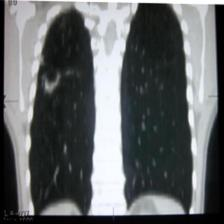tuberculosis: (22, 0, 197, 217)
